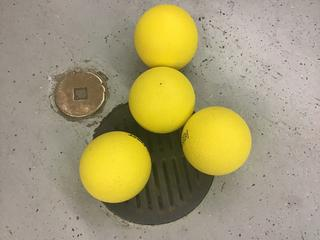power_cell: (71, 126, 152, 201), (183, 104, 258, 177), (131, 5, 196, 70), (132, 64, 193, 131)
